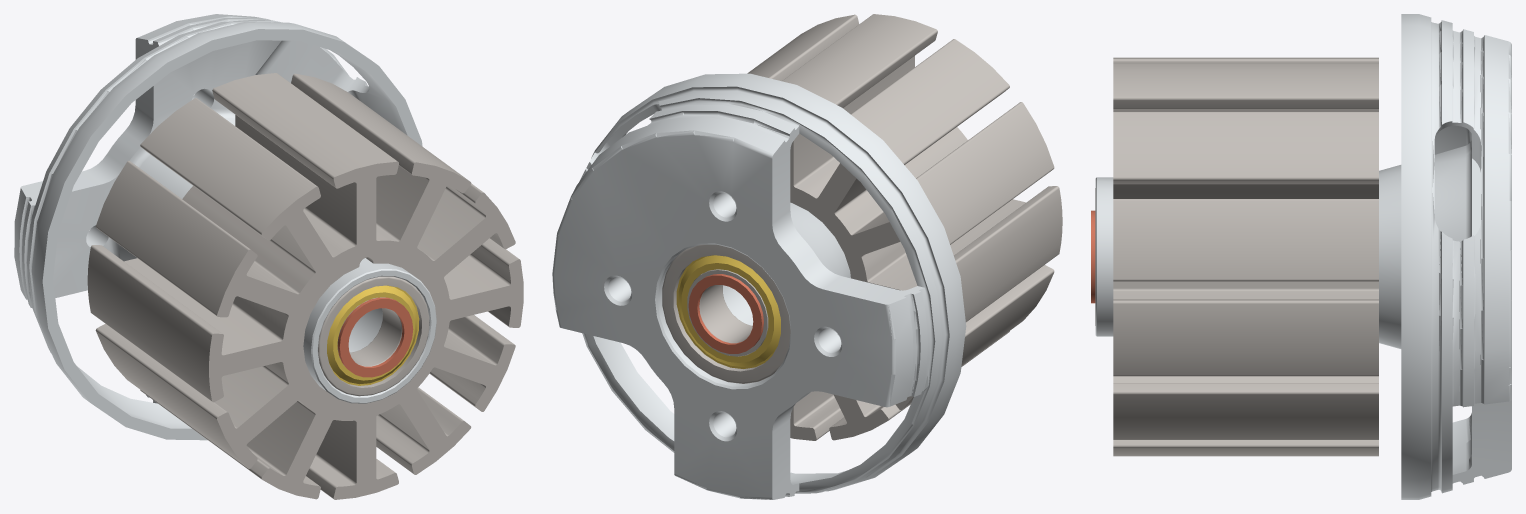
Rendered from stator.glb.
The picture shows the model from 3 angles, left to right: view 1: azimuth 30°, elevation 25°; view 2: azimuth 150°, elevation 25°; view 3: azimuth 270°, elevation 25°; orthographic projection. The views are drawn at different scales.
Parts seen in each view (by area): view 1: 4530-Mount; view 2: 4530-Mount; view 3: 4530-Mount.
Boxes of the visible parts, left/top/right/bottom form: 4530-Mount: left=14, top=14, right=523, bottom=499; 4530-Mount: left=552, top=14, right=1062, bottom=499; 4530-Mount: left=1091, top=14, right=1511, bottom=499.
Bounding box in the file's own units: 0.055 × 0.0546 × 0.0475.
